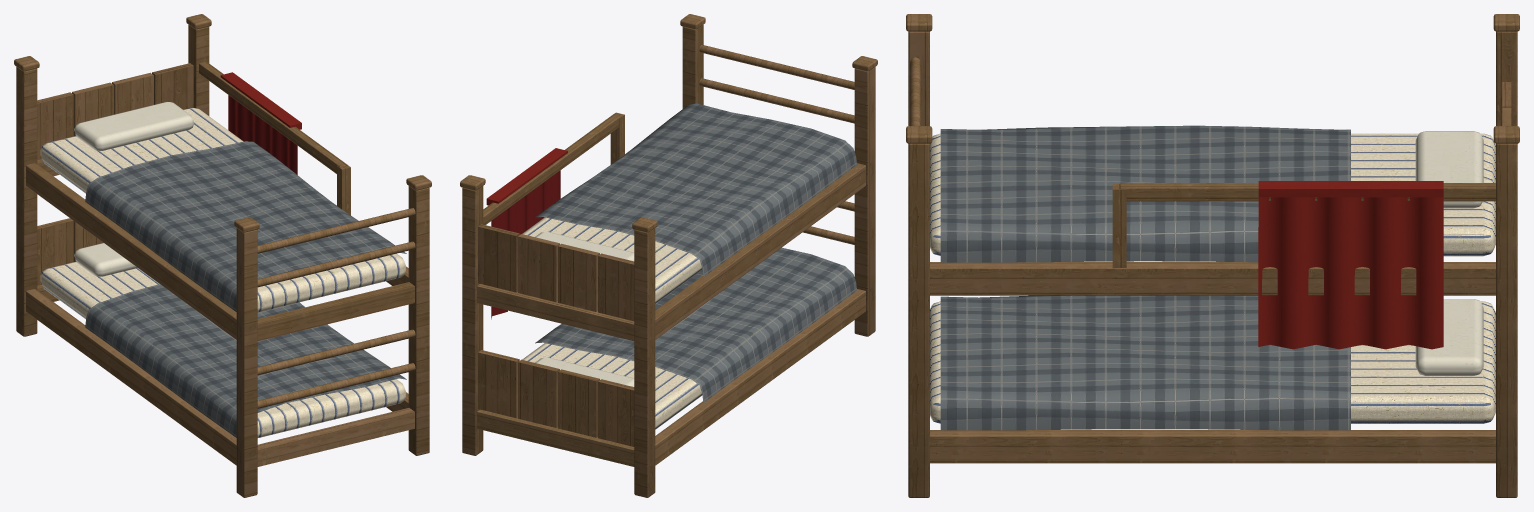
The model's file is prop_bunkBed.glb.
3 views of the same model, side by side, from view 1: azimuth 30°, elevation 25°; view 2: azimuth 150°, elevation 25°; view 3: azimuth 270°, elevation 25° (orthographic). The views are drawn at different scales.
Parts seen in each view (by area): view 1: prop; view 2: prop; view 3: prop.
Part boxes in pixels (<box>): prop: <box>14,14,431,497</box>; prop: <box>460,14,877,497</box>; prop: <box>906,14,1519,497</box>.
Size of what is drawn, in the model's own units: 0.9525 by 1.3 by 1.99.
5 materials, 5 textured.
